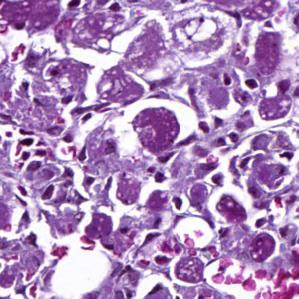inflammation: (6, 124, 53, 175), (213, 63, 266, 95)
